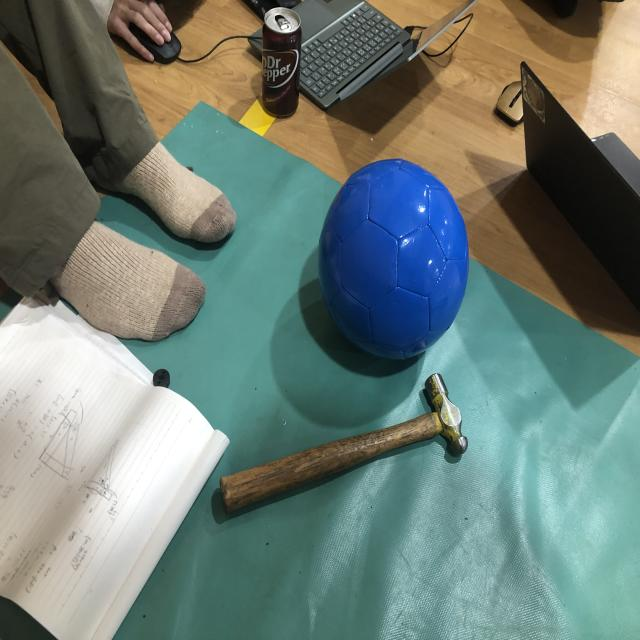blue_ball: (316, 159, 468, 355)
